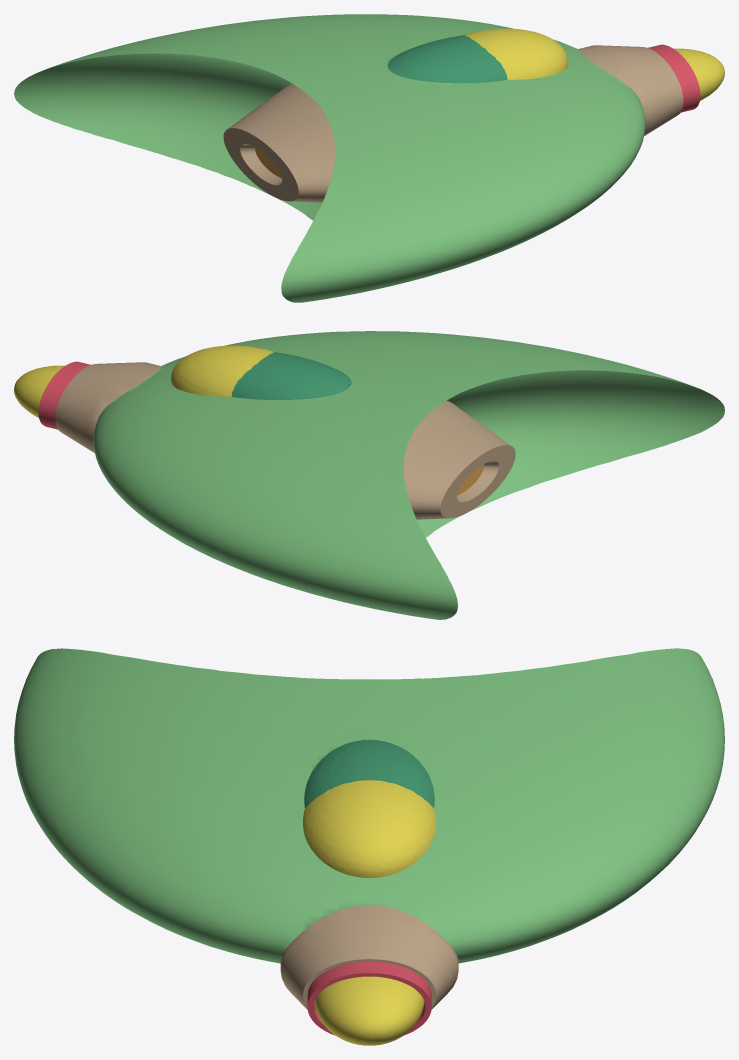
The model's file is kre-interceptor.glb.
3 views of the same model, one above another, from view 1: azimuth 30°, elevation 25°; view 2: azimuth 150°, elevation 25°; view 3: azimuth 270°, elevation 25° (orthographic). The views are drawn at different scales.
Parts seen in each view (by area): view 1: Fighter — Interceptor current hull - authored COLOR_0 region; view 2: Fighter — Interceptor current hull - authored COLOR_0 region; view 3: Fighter — Interceptor current hull - authored COLOR_0 region.
Boxes of the visible parts, x1,y1,x2,y2 form: Fighter — Interceptor current hull - authored COLOR_0 region: (14, 14, 724, 302); Fighter — Interceptor current hull - authored COLOR_0 region: (14, 331, 724, 619); Fighter — Interceptor current hull - authored COLOR_0 region: (14, 648, 724, 1045).
Bounding box in the file's own units: 1.07 × 0.2422 × 0.9177.
